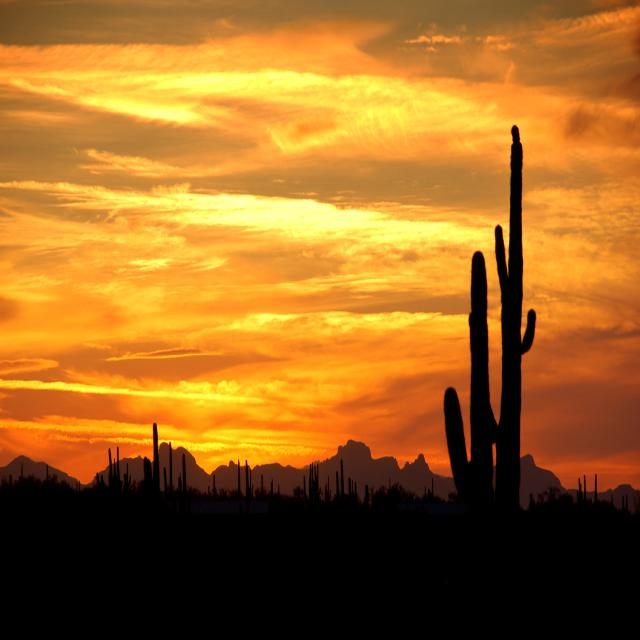fire: (40, 363, 41, 391)
no_fire: (9, 51, 615, 490)
